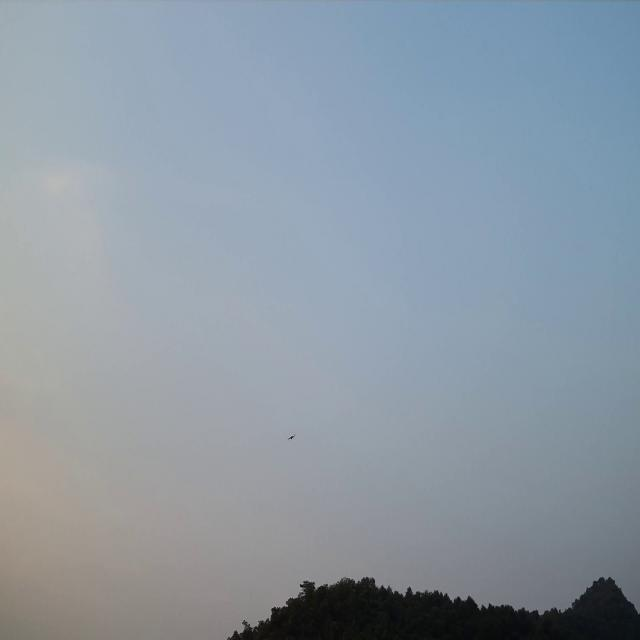drone: (288, 433, 296, 441)
